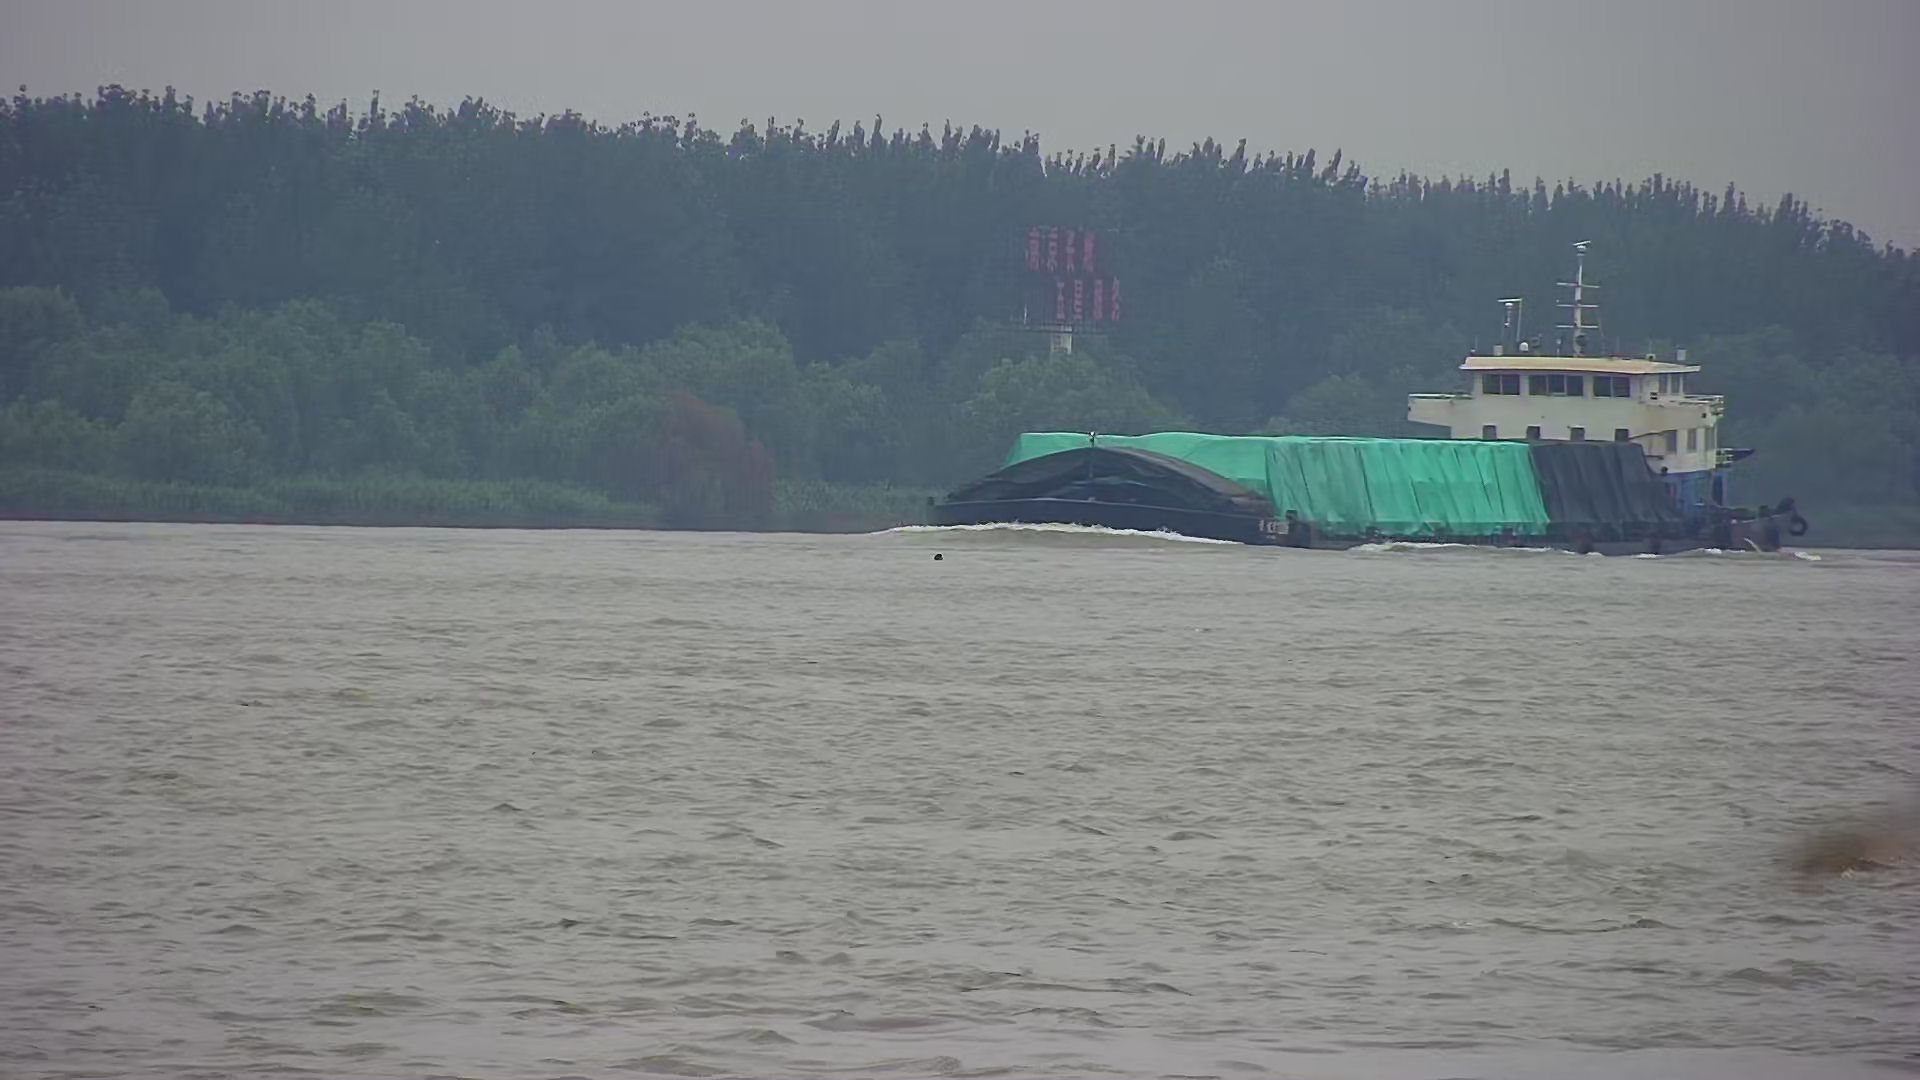ship: (920, 303, 1808, 567)
